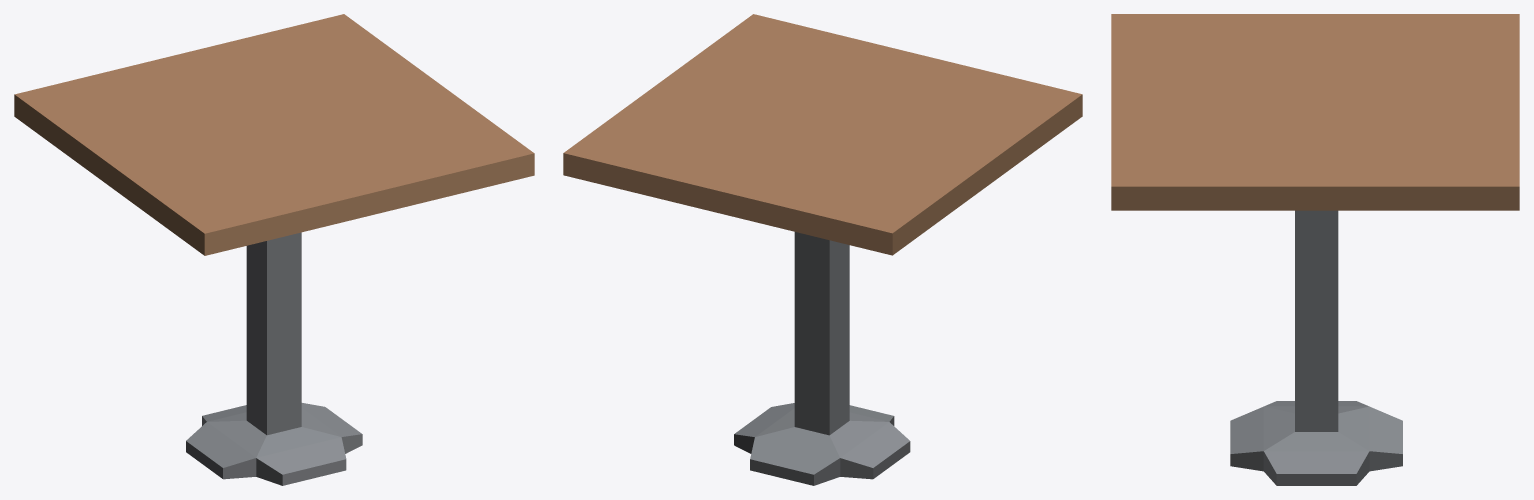
Rendered from SI_Prop_Table_02.fbx.
3 renders of one model, left to right at view 1: azimuth 30°, elevation 25°; view 2: azimuth 150°, elevation 25°; view 3: azimuth 270°, elevation 25°, orthographic. The views are drawn at different scales.
Visible parts, largest first — view 1: Table_01; view 2: Table_01; view 3: Table_01.
Part boxes in pixels (bbox=[...]): Table_01: bbox=[14, 14, 534, 485]; Table_01: bbox=[563, 14, 1082, 485]; Table_01: bbox=[1111, 14, 1519, 485].
Size of the model in its own units: 59.71 by 59.71 by 56.3.
1 material, 1 textured.
